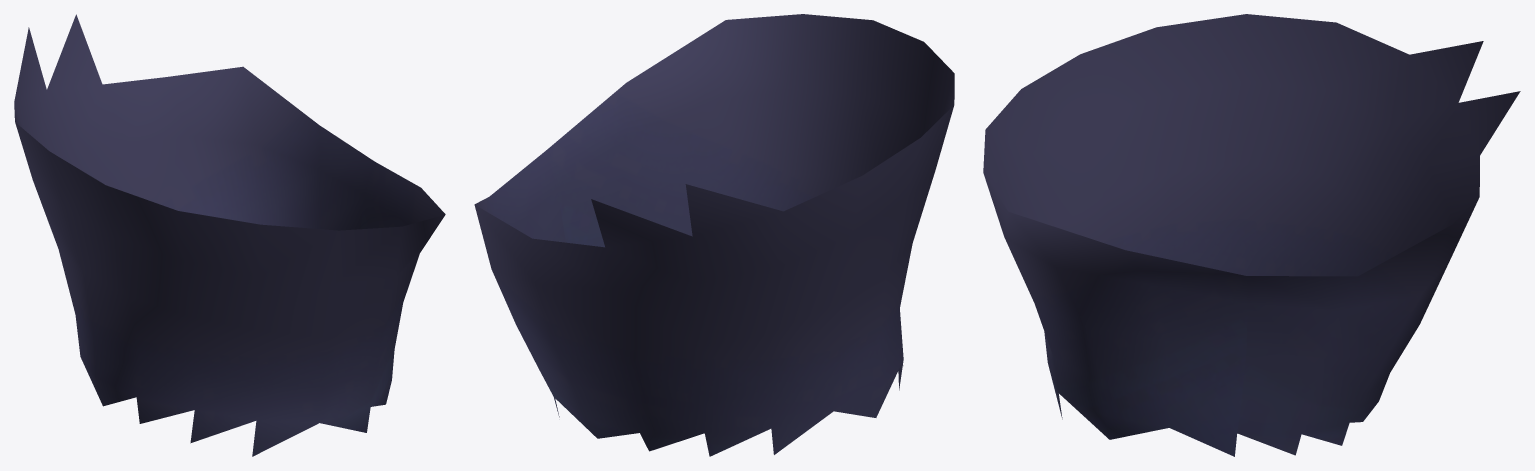
File: crazydave_muslo_der.obj
The picture shows the model from 3 angles, left to right: view 1: azimuth 30°, elevation 25°; view 2: azimuth 150°, elevation 25°; view 3: azimuth 270°, elevation 25°; orthographic projection. The views are drawn at different scales.
Parts seen in each view (by area): view 1: crazydave_muslo_der; view 2: crazydave_muslo_der; view 3: crazydave_muslo_der.
Boxes of the visible parts, x1,y1,x2,y2 form: crazydave_muslo_der: [14, 14, 445, 456]; crazydave_muslo_der: [474, 14, 954, 456]; crazydave_muslo_der: [983, 14, 1520, 456].
Bounding box in the file's own units: 0.3327 × 0.2915 × 0.4517.
